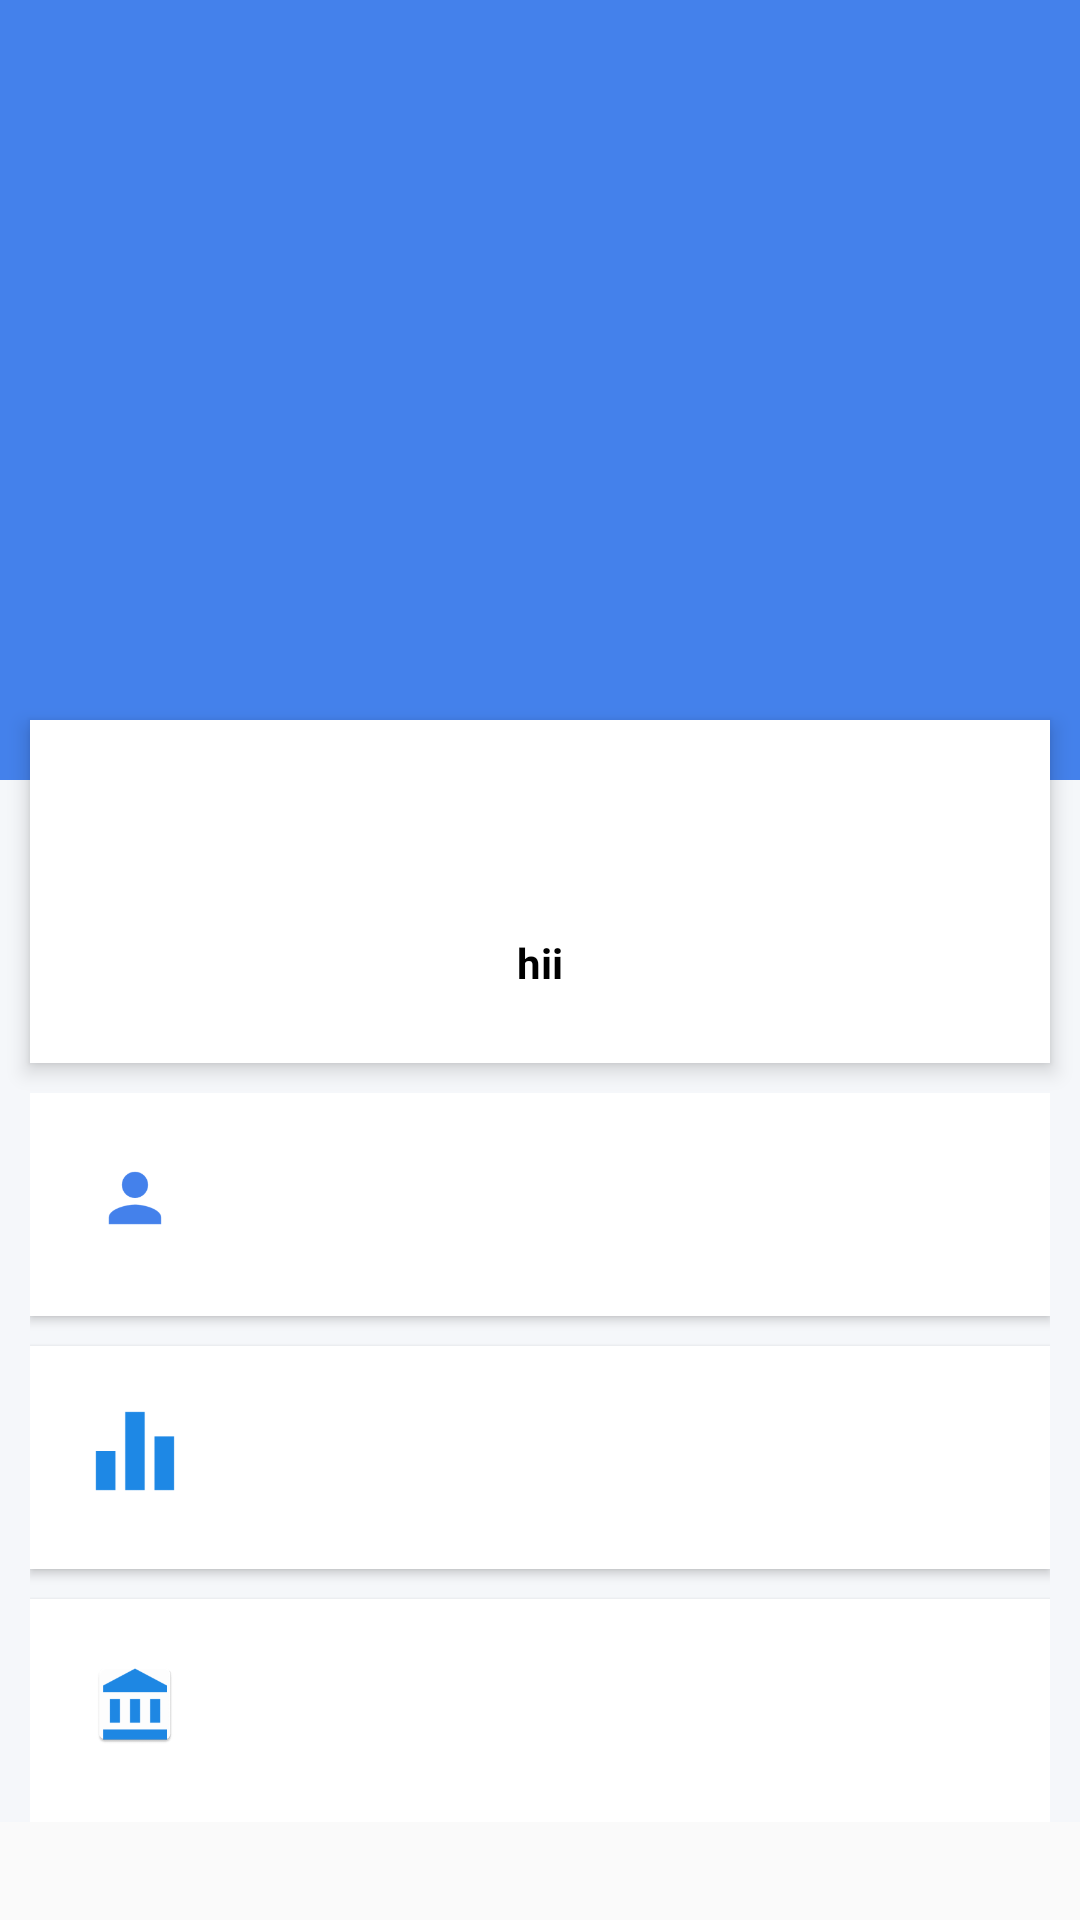

Icon bounding boxes for this 1080w x 1920h phone screenshot, format (left=x1, top=y1, right=x2, bottom=y2):
department: (left=100, top=1668, right=171, bottom=1742)
